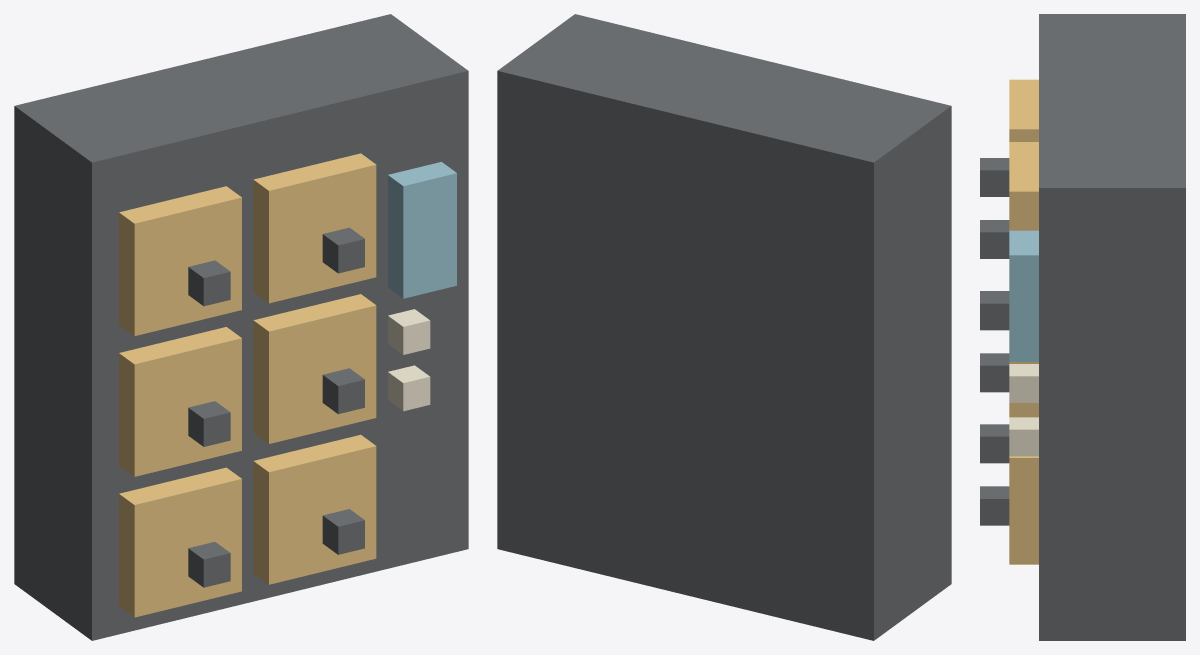
The model's file is pocket-borough-parcel-locker__292.glb.
3 views of the same model, side by side, from view 1: azimuth 30°, elevation 25°; view 2: azimuth 150°, elevation 25°; view 3: azimuth 270°, elevation 25° (orthographic). The views are drawn at different scales.
Visible parts, largest first — view 1: pocket-borough-parcel-locker; view 2: pocket-borough-parcel-locker; view 3: pocket-borough-parcel-locker.
Part boxes in pixels (x1,y1,x2,y2): pocket-borough-parcel-locker: (14,14,468,640); pocket-borough-parcel-locker: (497,14,951,640); pocket-borough-parcel-locker: (980,14,1185,640).
Bounding box in the file's own units: 1.75 × 2.12 × 0.875.
